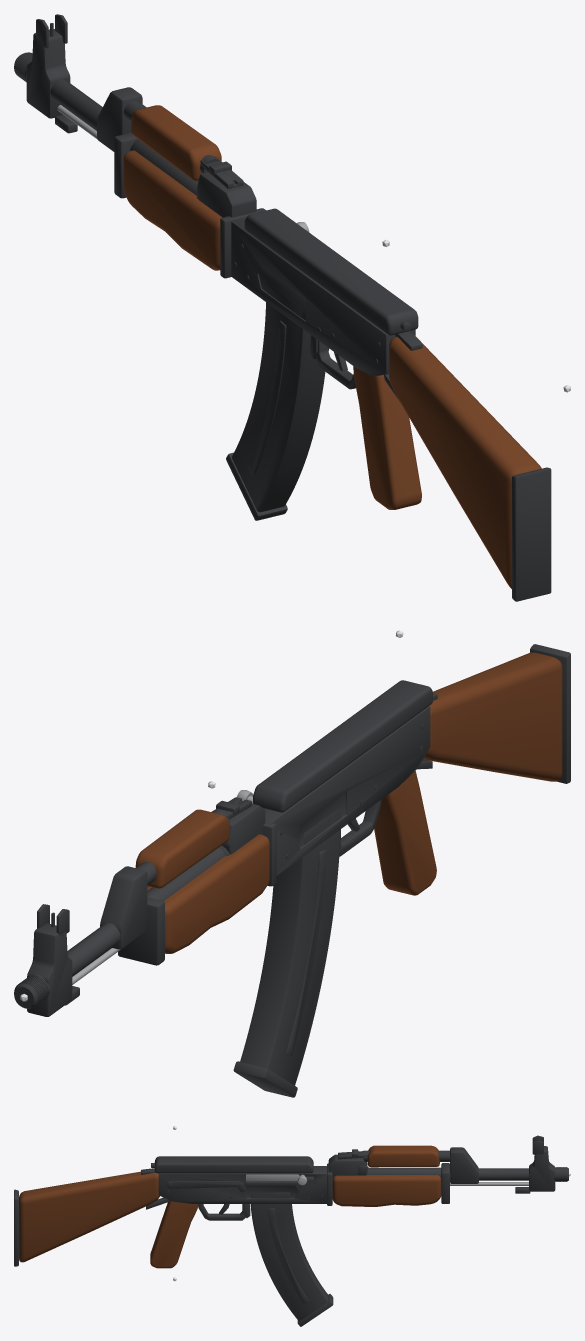
3 views of the same model, one above another, from view 1: azimuth 30°, elevation 25°; view 2: azimuth 150°, elevation 25°; view 3: azimuth 270°, elevation 25° (orthographic). The views are drawn at different scales.
Visible parts, largest first — view 1: Stock, Magazine, Receiver, DustCover, Grip, LowerHandguard, ButtPlate, Fittings, UpperHandguard, FrontSight, Barrel, RearSight (+1 smaller); view 2: Magazine, Stock, Receiver, DustCover, LowerHandguard, Fittings, Grip, UpperHandguard, FrontSight, Barrel, RearSight, ButtPlate (+1 smaller); view 3: Stock, Magazine, Receiver, LowerHandguard, DustCover, Grip, Fittings, UpperHandguard, Barrel, FrontSight, RearSight, Selector (+3 smaller).
Boxes of the visible parts, box(x1,y1,x2,y2) form: Stock: box(389, 335, 541, 588); Magazine: box(226, 281, 325, 520); Receiver: box(231, 218, 415, 376); DustCover: box(244, 208, 418, 335); Grip: box(353, 366, 421, 509); LowerHandguard: box(123, 150, 222, 270); ButtPlate: box(512, 467, 551, 601); Fittings: box(97, 87, 422, 401); UpperHandguard: box(131, 105, 221, 180); FrontSight: box(26, 14, 77, 133); Barrel: box(14, 52, 252, 216); RearSight: box(197, 156, 256, 217); Magazine: box(233, 807, 341, 1097); Stock: box(423, 652, 562, 781); Receiver: box(264, 706, 430, 875); DustCover: box(253, 680, 432, 812); LowerHandguard: box(147, 834, 269, 953); Fittings: box(100, 693, 437, 965); Grip: box(374, 770, 436, 895); UpperHandguard: box(135, 809, 229, 888); FrontSight: box(27, 904, 79, 1016); Barrel: box(14, 845, 229, 1008); RearSight: box(211, 797, 265, 854); ButtPlate: box(530, 644, 570, 783); Stock: box(19, 1171, 159, 1262); Magazine: box(250, 1192, 333, 1326); Receiver: box(158, 1166, 326, 1203); LowerHandguard: box(332, 1175, 441, 1206); DustCover: box(151, 1156, 313, 1173); Grip: box(150, 1200, 198, 1268); Fittings: box(141, 1147, 478, 1209); UpperHandguard: box(367, 1145, 439, 1167); Barrel: box(366, 1167, 568, 1181); FrontSight: box(515, 1135, 555, 1193); RearSight: box(328, 1149, 368, 1177); Selector: box(166, 1181, 245, 1192).
Bounding box in the file's own units: 1.14 × 1.91 × 4.9.
